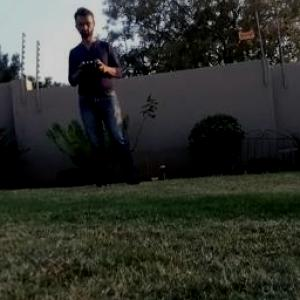follow: (64, 0, 148, 192)
